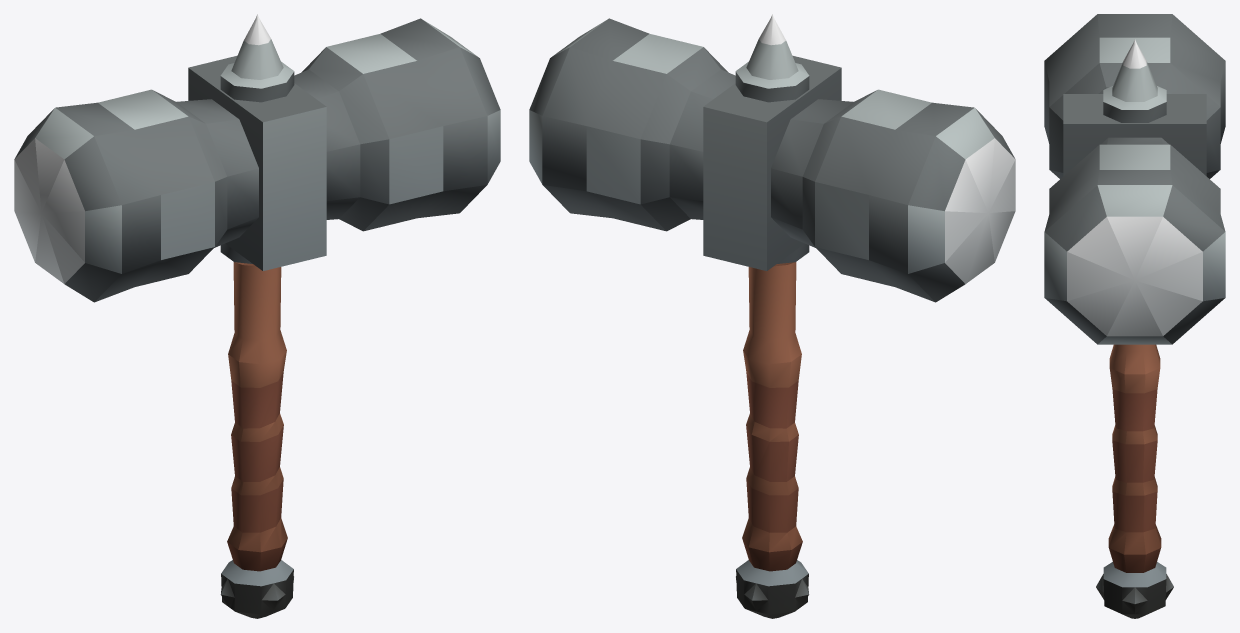
The model's file is warhammer_iron.glb.
The picture shows the model from 3 angles, left to right: view 1: azimuth 30°, elevation 25°; view 2: azimuth 150°, elevation 25°; view 3: azimuth 270°, elevation 25°; orthographic projection. The views are drawn at different scales.
Visible parts, largest first — view 1: Item; view 2: Item; view 3: Item.
Part boxes in pixels (x1,y1,x2,y2): Item: [14, 14, 500, 618]; Item: [529, 14, 1015, 618]; Item: [1044, 14, 1225, 618].
Bounding box in the file's own units: 1.48 × 1.98 × 0.56.
3 materials, 3 textured.
